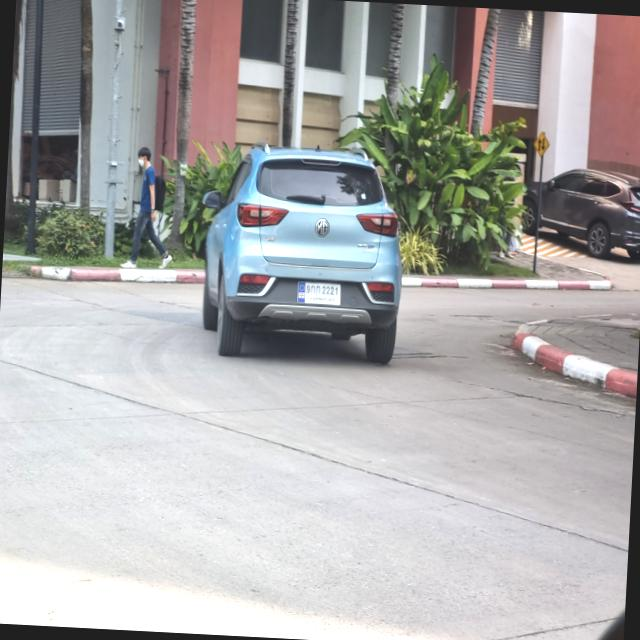license_plate: (295, 278, 344, 308)
